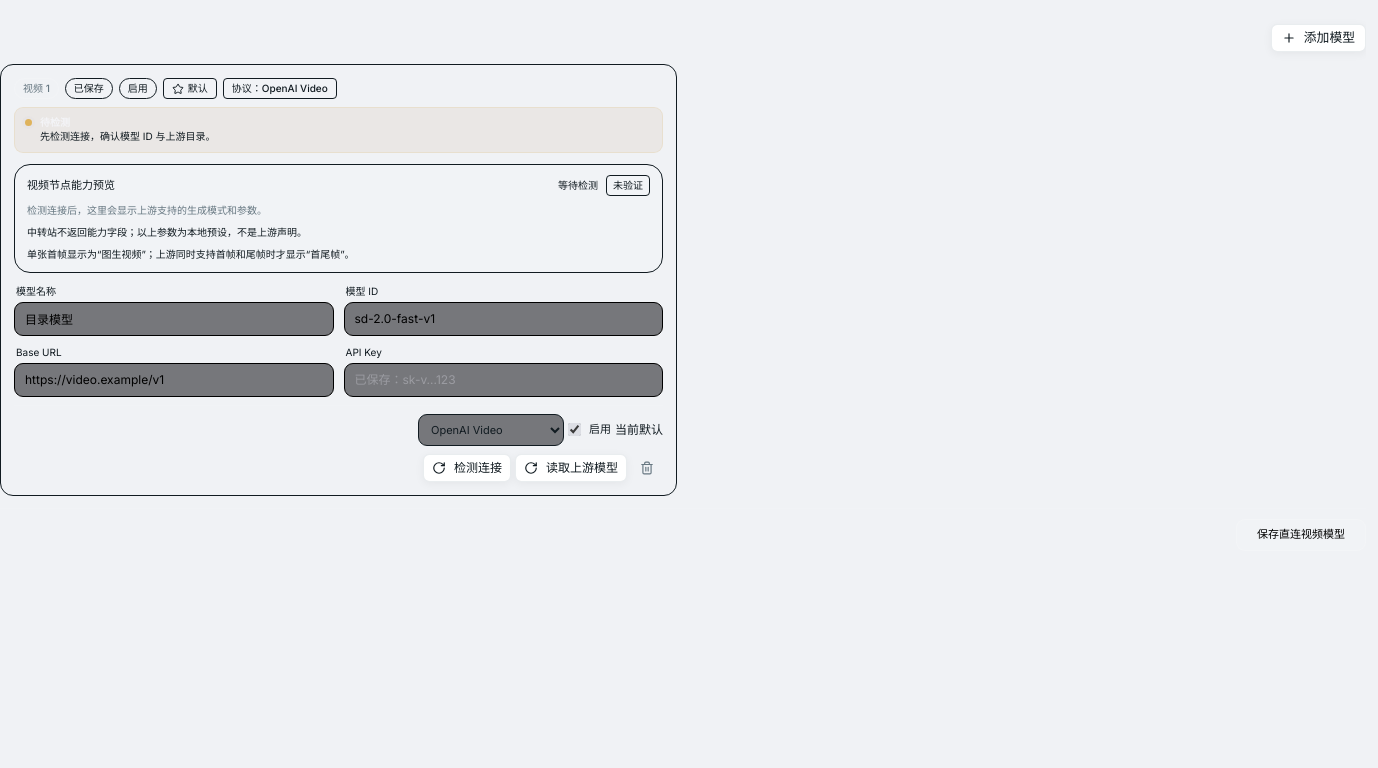
Test: Village direct non-video model panel › does not report a directory-only video ID as node-ready
Click the button "检测连接" at [467, 468], box [423, 454, 511, 482]
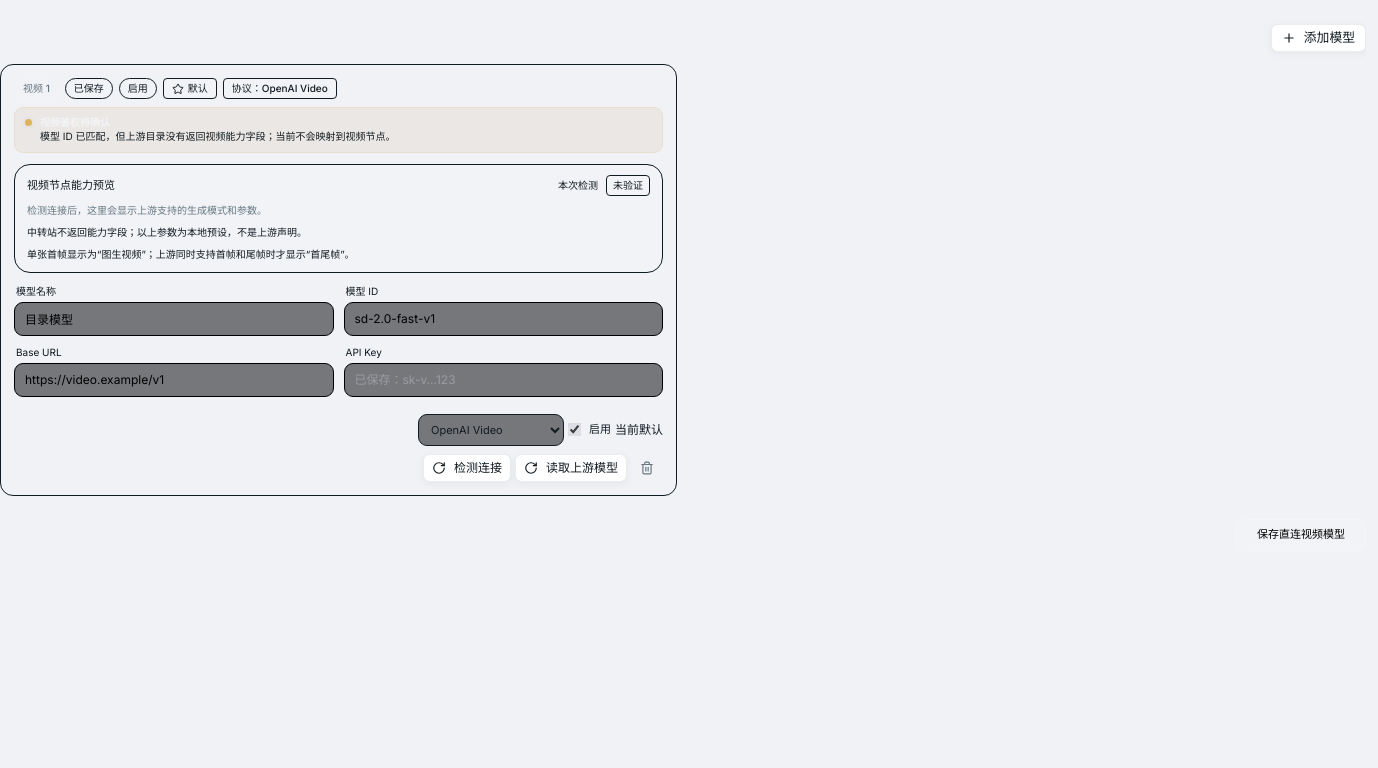
Expected: the text "模型 ID 已匹配，但上游目录没有返回视频能力字段；当前不会映射到视频节点。" is shown, [40, 130, 396, 144]
